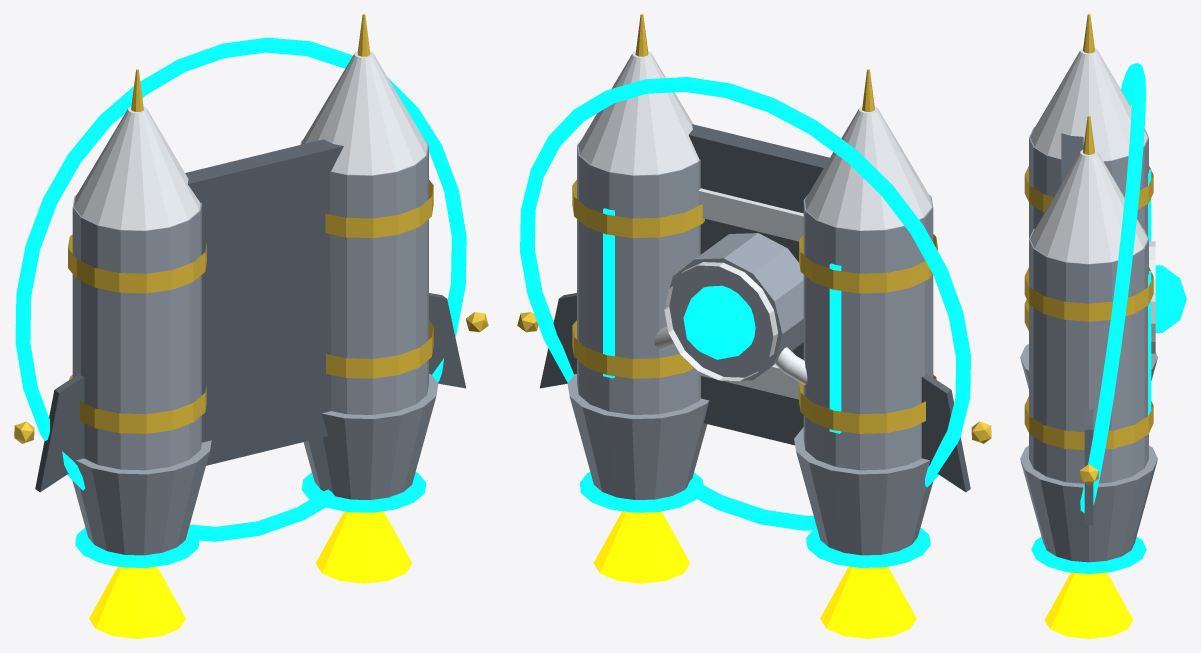
File: jetpack.glb
The picture shows the model from 3 angles, left to right: view 1: azimuth 30°, elevation 25°; view 2: azimuth 150°, elevation 25°; view 3: azimuth 270°, elevation 25°; orthographic projection. The views are drawn at different scales.
Visible parts, largest first — view 1: Backplate, Cylinder_Left, Cylinder_Right, FlightAuraRing, Nozzle_Left, Nosecone_Left, Nozzle_Right, Nosecone_Right, FlameTip_Right, FlameTip_Left, Fin_Left, Band_Left_0.16 (+6 smaller); view 2: Cylinder_Left, Cylinder_Right, FlightAuraRing, Backplate, ReactorHousing, Nozzle_Right, Nozzle_Left, Nosecone_Right, Nosecone_Left, FlameTip_Right, FlameTip_Left, PlasmaCore (+14 smaller); view 3: Cylinder_Right, Nozzle_Right, Nosecone_Right, Nosecone_Left, FlightAuraRing, FlameTip_Right, Cylinder_Left, Band_Right_0.16, Band_Right_-0.16, PlasmaRim_Right, PlasmaCore, Fin_Right (+8 smaller).
Part boxes in pixels (x1,y1,x2,y2): Backplate: [185, 139, 343, 465]; Cylinder_Left: [72, 194, 201, 470]; Cylinder_Right: [300, 140, 428, 414]; FlightAuraRing: [15, 37, 466, 541]; Nozzle_Left: [72, 440, 211, 555]; Nosecone_Left: [74, 106, 200, 230]; Nozzle_Right: [303, 374, 438, 499]; Nosecone_Right: [301, 51, 427, 175]; FlameTip_Right: [315, 511, 412, 583]; FlameTip_Left: [89, 566, 185, 638]; Fin_Left: [35, 373, 84, 492]; Band_Left_0.16: [68, 234, 206, 293]; Cylinder_Left: [803, 194, 933, 470]; Cylinder_Right: [577, 140, 700, 414]; FlightAuraRing: [520, 77, 970, 530]; Backplate: [688, 124, 829, 445]; ReactorHousing: [665, 233, 803, 381]; Nozzle_Right: [567, 374, 709, 499]; Nozzle_Left: [794, 427, 933, 555]; Nosecone_Right: [578, 51, 699, 175]; Nosecone_Left: [805, 106, 931, 230]; FlameTip_Right: [593, 511, 690, 583]; FlameTip_Left: [820, 566, 916, 638]; PlasmaCore: [683, 285, 755, 359]; Cylinder_Right: [1029, 228, 1148, 483]; Nozzle_Right: [1020, 445, 1157, 562]; Nosecone_Right: [1030, 150, 1147, 263]; Nosecone_Left: [1030, 48, 1147, 161]; FlightAuraRing: [1080, 63, 1145, 513]; FlameTip_Right: [1044, 572, 1133, 638]; Cylinder_Left: [1029, 127, 1148, 238]; Band_Right_0.16: [1024, 267, 1153, 321]; Band_Right_-0.16: [1024, 396, 1153, 450]; PlasmaRim_Right: [1031, 536, 1146, 573]; PlasmaCore: [1155, 265, 1186, 332]; Fin_Right: [1084, 409, 1093, 525].
Size of the model in its own units: 1.12 by 1.25 by 0.375.
